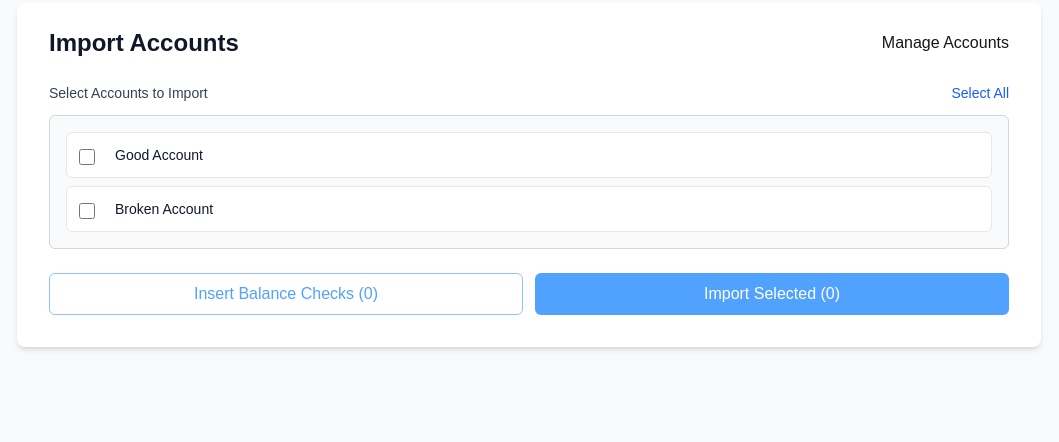
it: ImportUI - Error Handling › should show skipped accounts after partial balance check success
The image size is (1059, 442).
Click the checkbox labelled "Good Account": point(87, 157) [79,149,95,165]
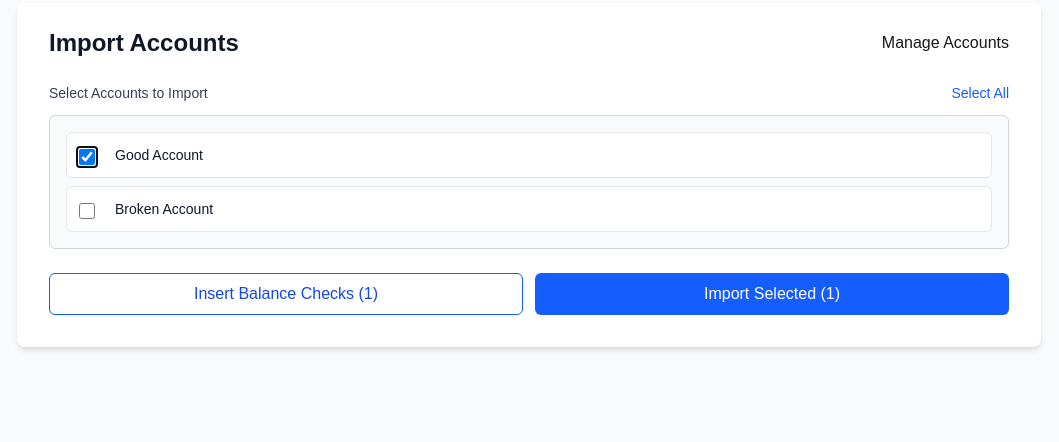
Click the checkbox labelled "Broken Account": point(87, 211) [79,203,95,219]
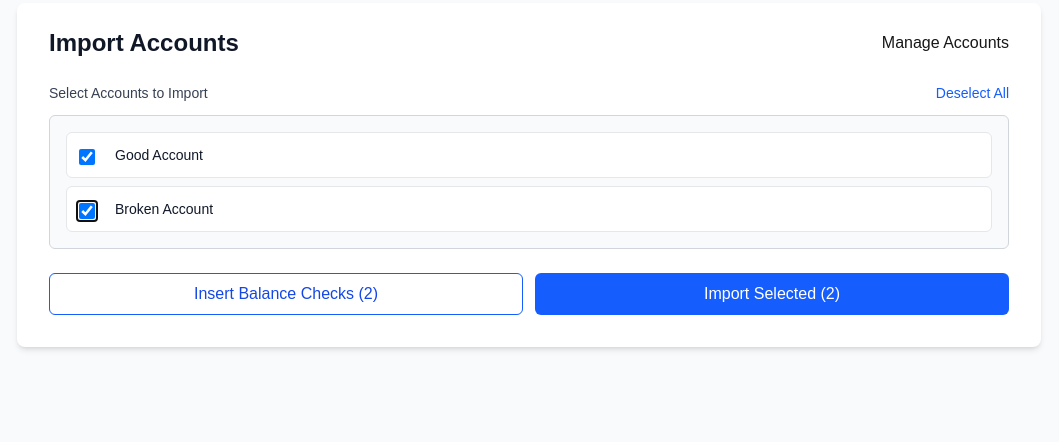
Click the button "Insert Balance Checks (2)": point(286, 294) [49,273,523,315]
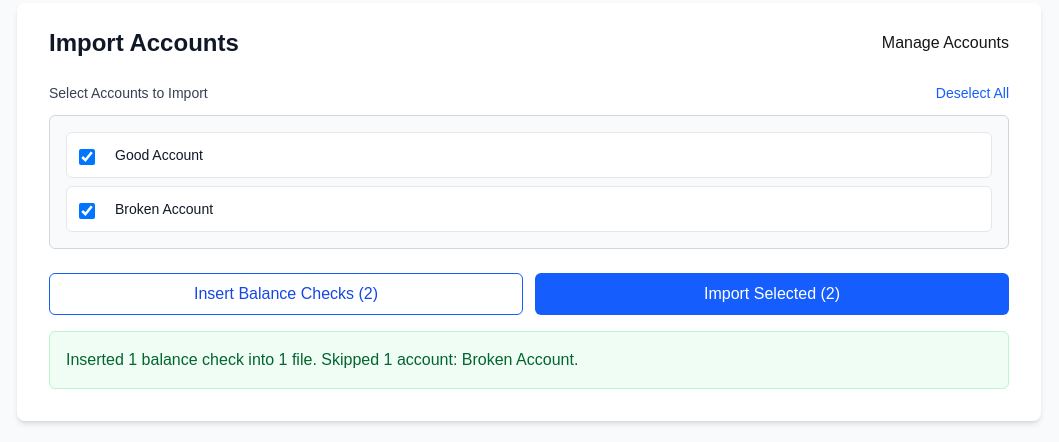
Check: the text "Inserted 1 balance check into 1 file. Skipped 1 account: Broken Account." is shown, box [49,331,1009,389]
